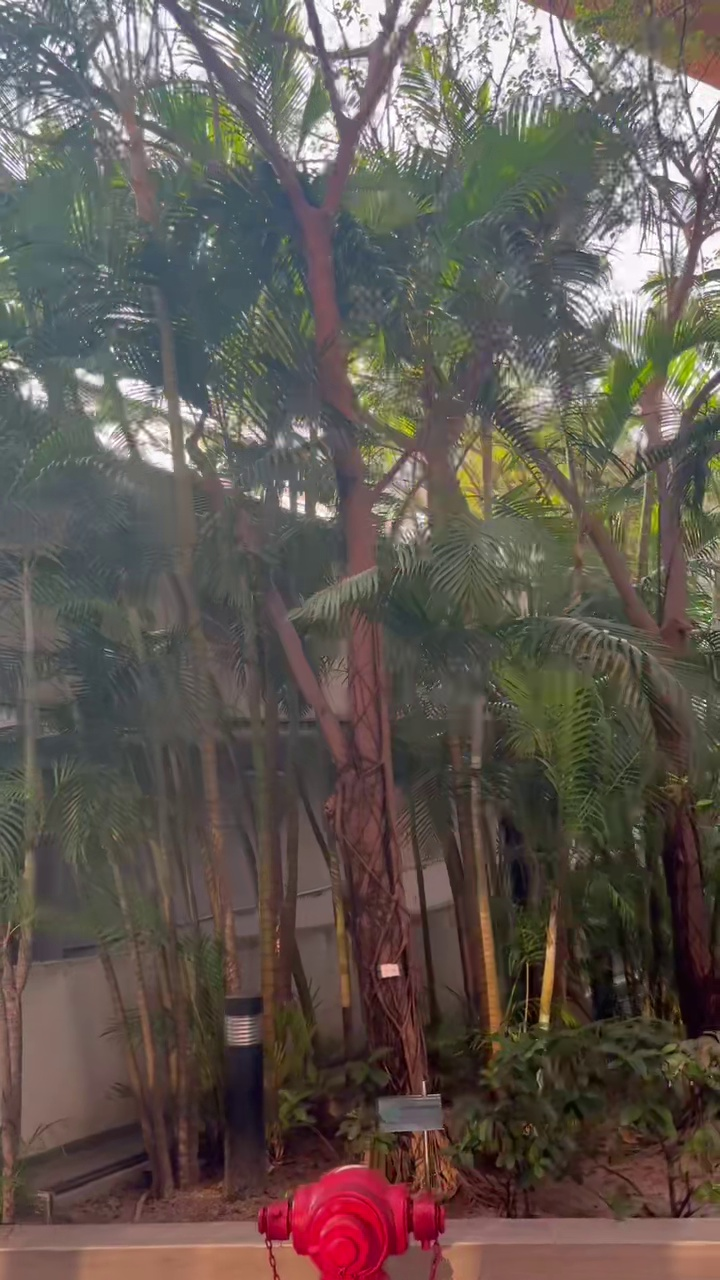Ficus benjamina: (163, 0, 426, 1093)
